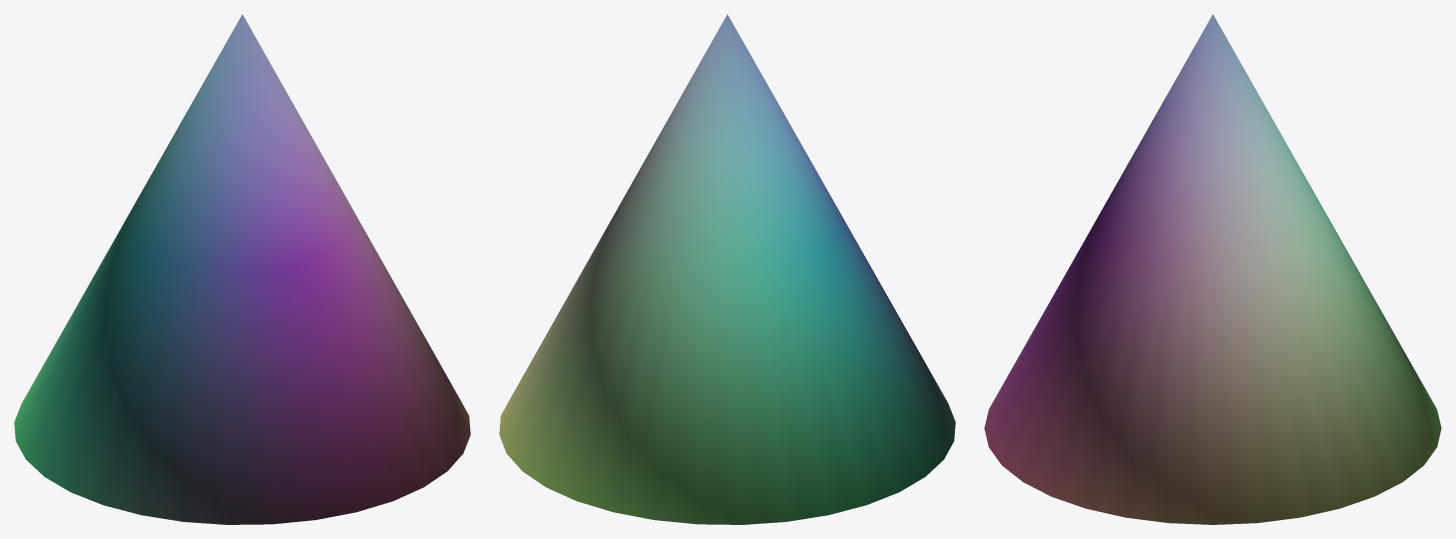
3 views of the same model, side by side, from view 1: azimuth 30°, elevation 25°; view 2: azimuth 150°, elevation 25°; view 3: azimuth 270°, elevation 25° (orthographic).
Visible parts, largest first — view 1: Cone; view 2: Cone; view 3: Cone.
Boxes of the visible parts, box(x1,y1,x2,y2) form: Cone: box(14, 14, 470, 524); Cone: box(499, 14, 955, 524); Cone: box(984, 14, 1441, 524).
Size of the model in its own units: 200 by 200 by 200.
